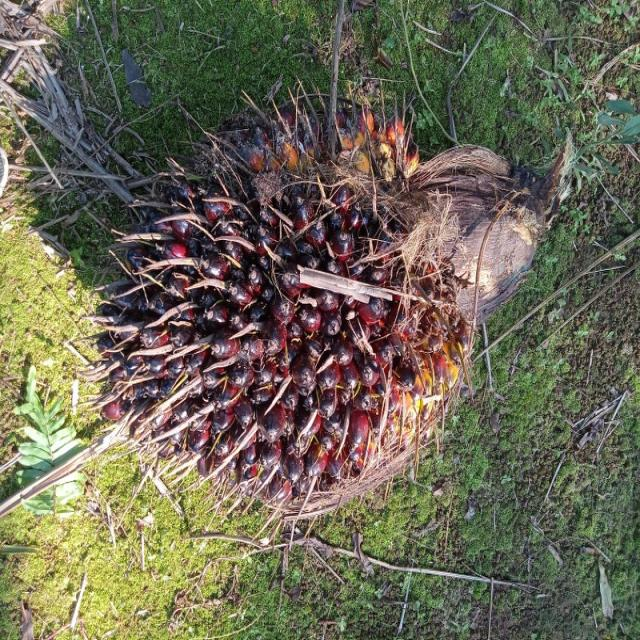fraksi 1: (43, 51, 568, 553)
